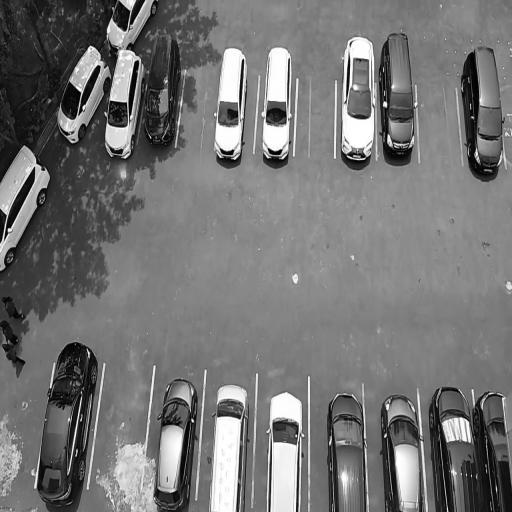Car: (34, 339, 99, 503), (48, 34, 115, 155), (0, 131, 52, 274), (462, 30, 508, 180), (429, 380, 480, 512), (95, 48, 149, 170), (324, 384, 372, 512), (153, 376, 199, 508), (377, 30, 420, 164), (261, 387, 306, 512), (379, 387, 424, 512), (207, 380, 248, 512), (339, 32, 378, 166), (475, 375, 512, 512), (259, 36, 294, 174), (211, 42, 246, 174), (143, 34, 180, 152), (99, 0, 163, 60)
Space Available: (89, 354, 151, 507), (175, 59, 219, 159), (419, 71, 461, 174), (295, 62, 335, 168)
